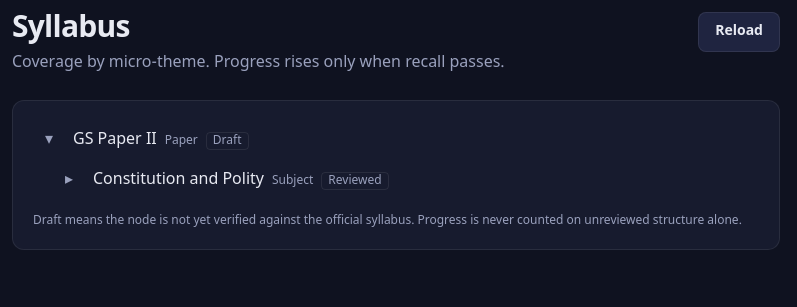
Scenario: Syllabus screen › expands and collapses a node and exposes aria-expanded
Click the button named "expand constitution and polity": (69, 181) [53,165,85,197]
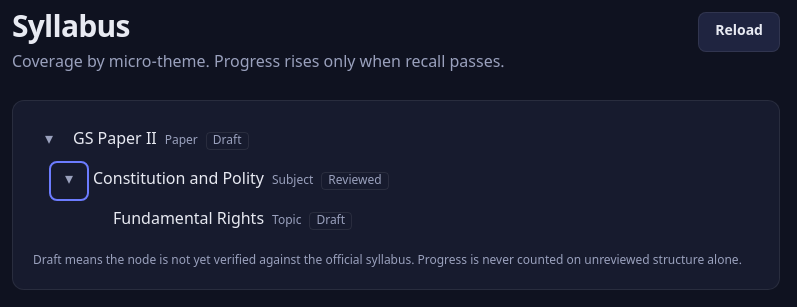
Check: the text "Fundamental Rights" is shown, box [113,209,264,233]
Check: the button named "collapse constitution and polity" is expanded
Click the button named "collapse constitution and polity": (69, 181) [53,165,85,197]
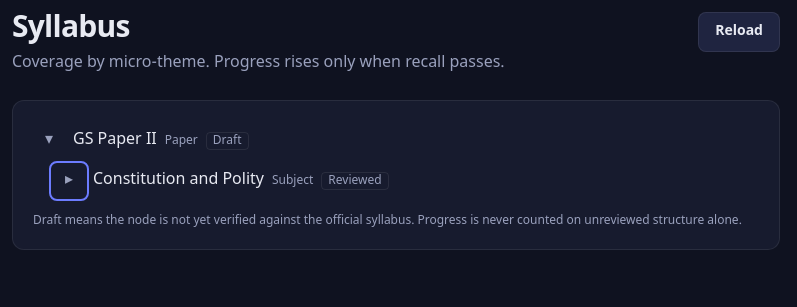
Check: the text "Fundamental Rights" is gone
